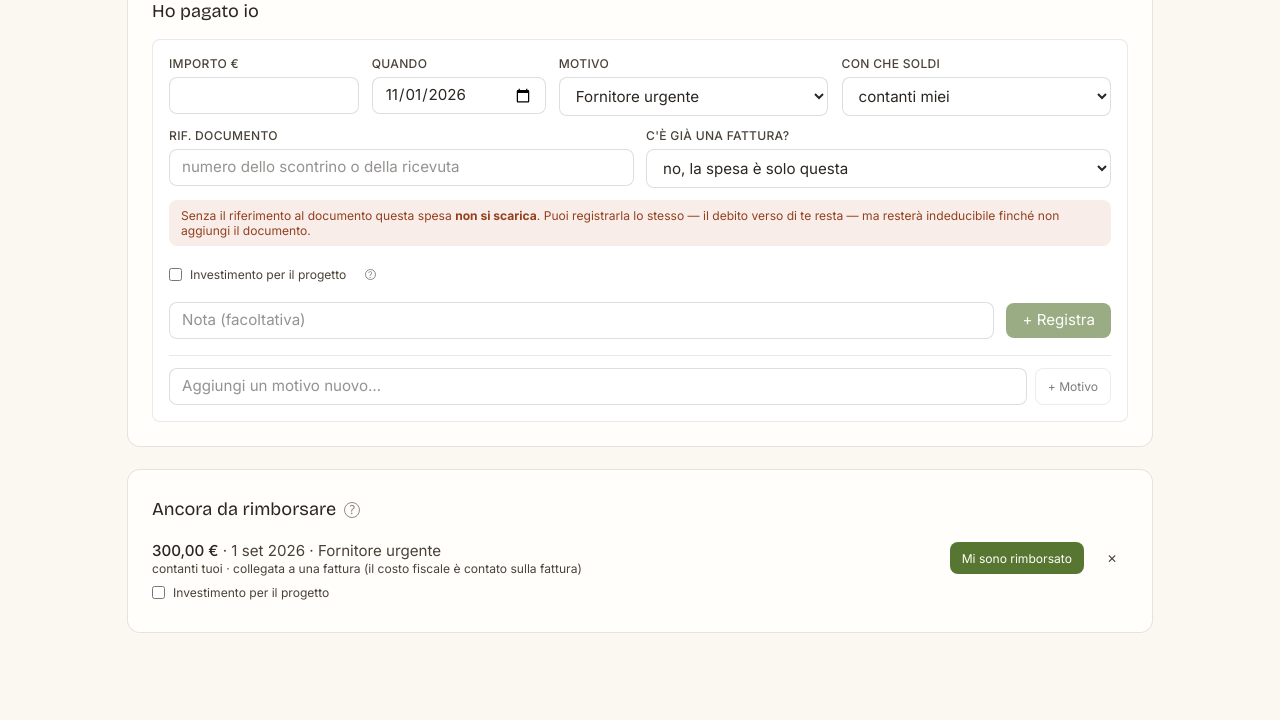
it: 7 · una nota gia' scritta si marca e si smarca › 🔴 il rifiuto del database si legge SULLA RIGA TOCCATA
(page scrolled)
Expected: the heading "Ancora da rimborsare ?" is shown, 152,494 -> 368,526
Click the checkbox labelled "Investimento per il progetto" at (158, 592), box 152,586 -> 165,599
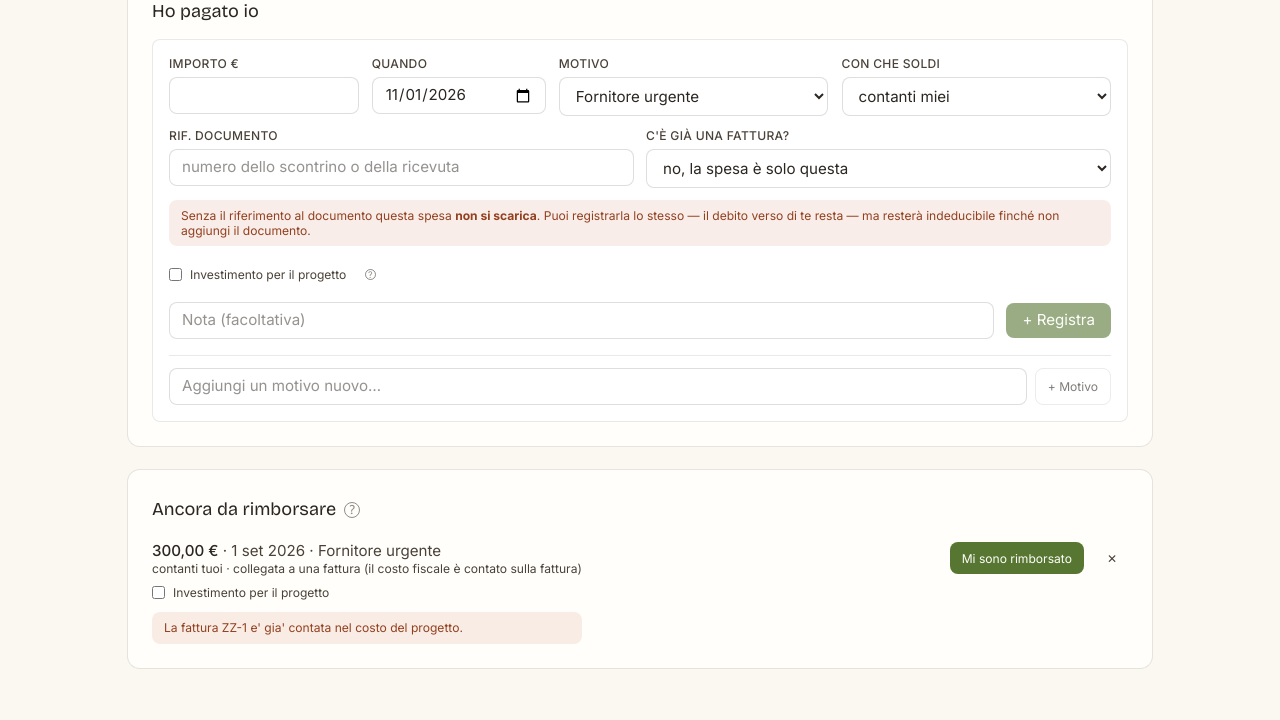
Now the text "La fattura ZZ-1 e' gia' contata nel costo del progetto." is shown, box 152,612 -> 582,644
